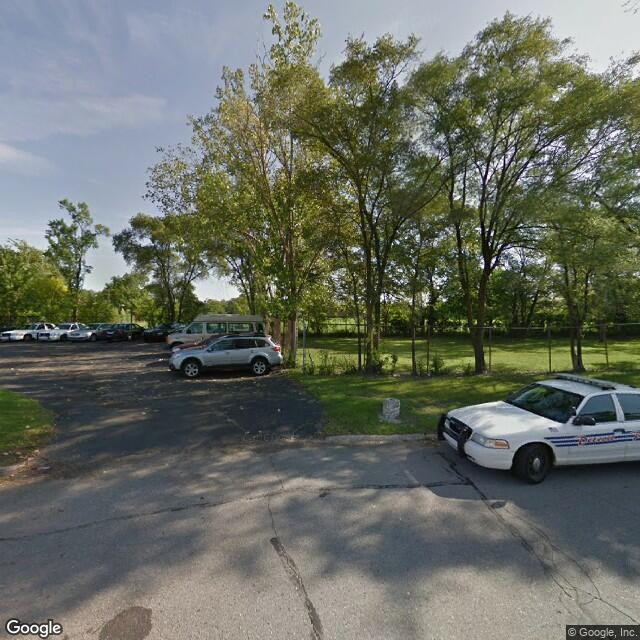litter: (157, 356, 165, 362), (277, 406, 282, 415)
